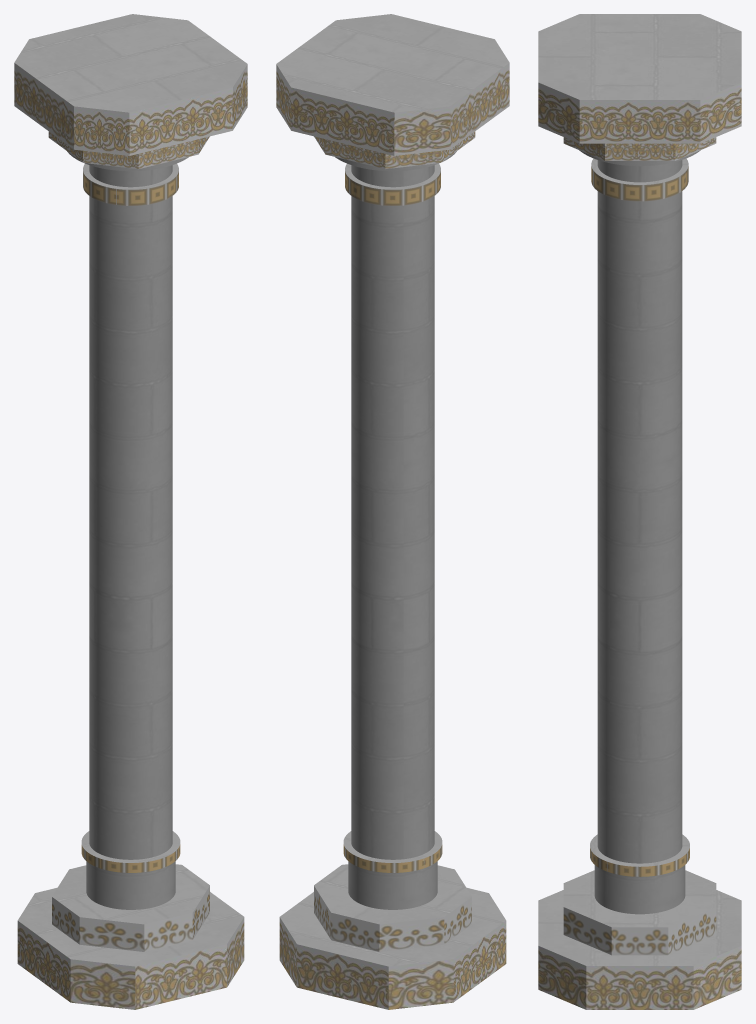
The model's file is SM_column_02.glb.
3 renders of one model, left to right at view 1: azimuth 30°, elevation 25°; view 2: azimuth 150°, elevation 25°; view 3: azimuth 270°, elevation 25°, orthographic.
Parts seen in each view (by area): view 1: SM_column_02; view 2: SM_column_02; view 3: SM_column_02.
Boxes of the visible parts, left/top/right/bottom form: SM_column_02: left=14, top=14, right=247, bottom=1009; SM_column_02: left=276, top=14, right=509, bottom=1009; SM_column_02: left=538, top=14, right=741, bottom=1009.
Size of the model in its own units: 1.62 by 8.02 by 1.62.
2 materials, 2 textured.
